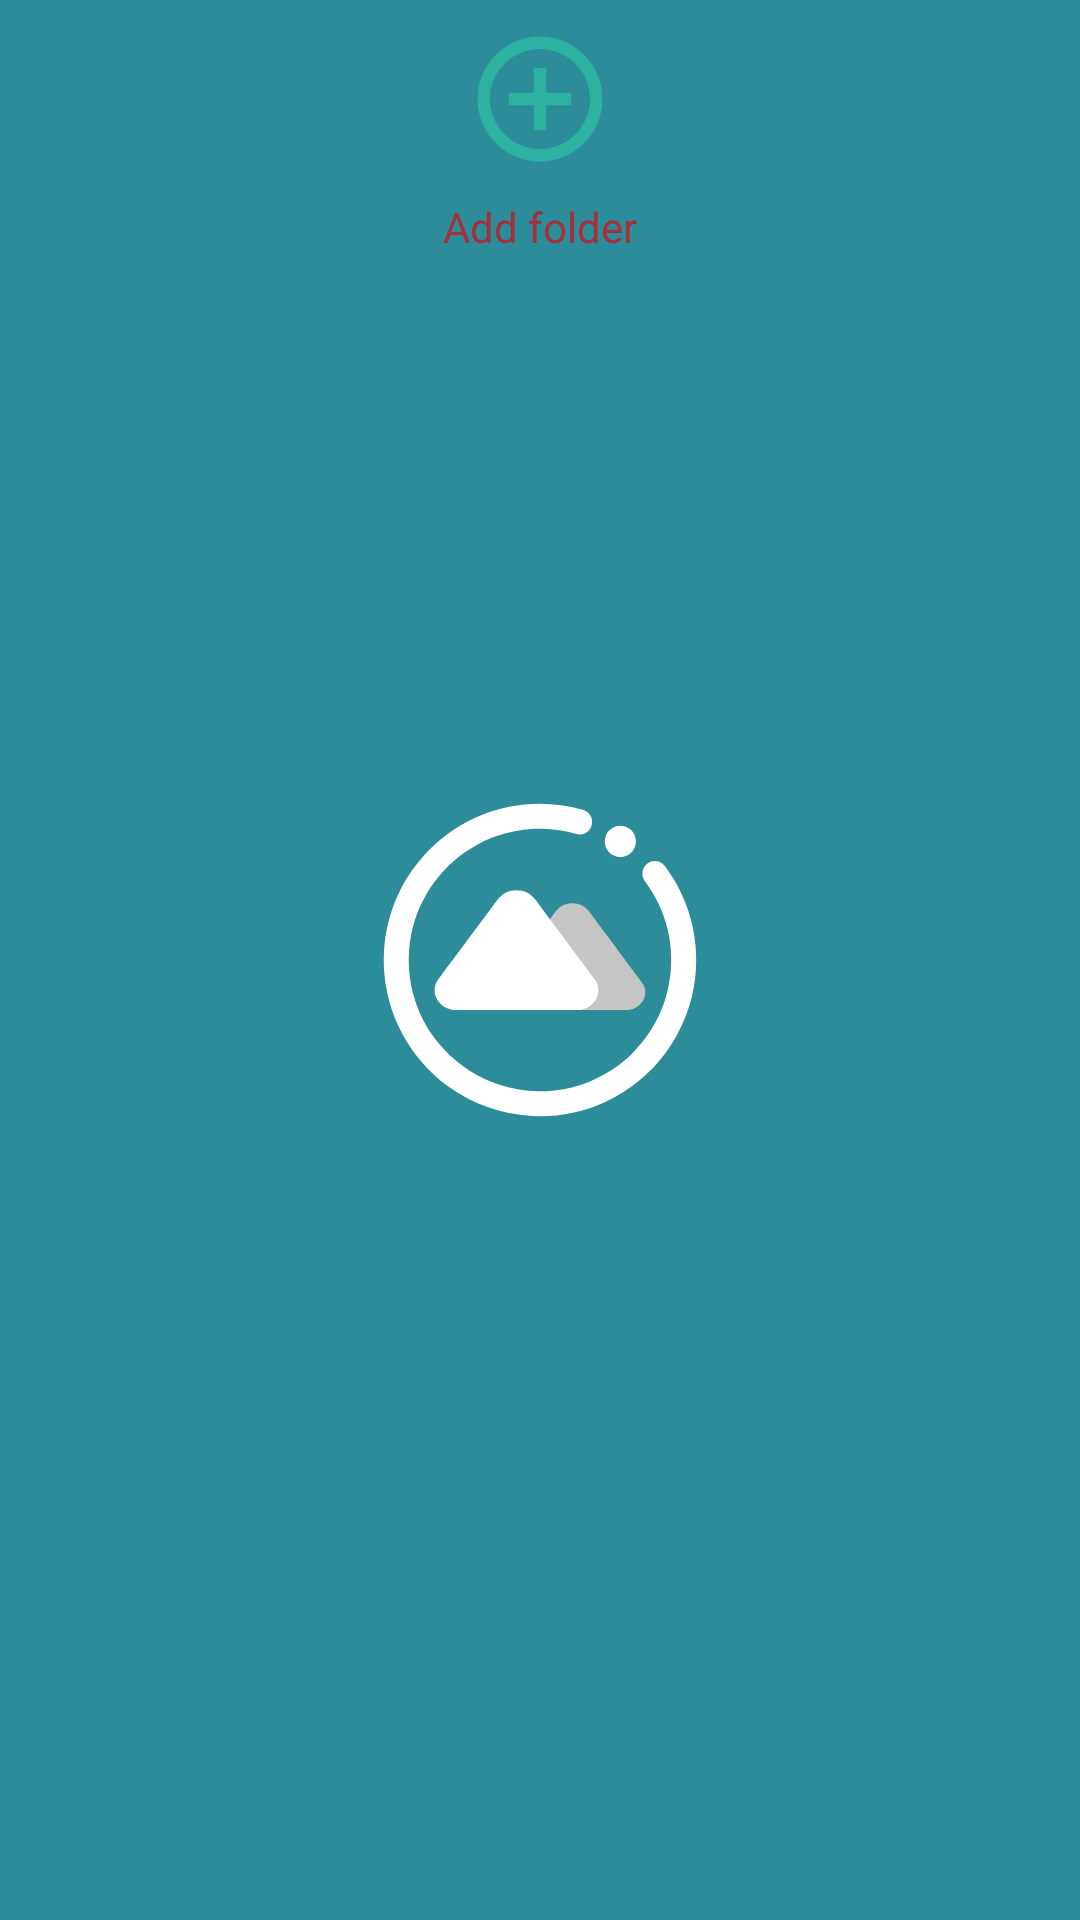

Locate icon controls on the screen. Image size 1080*1920, boxes as (x1, y1, x2, y2).
add circle: (478, 37, 602, 161)
